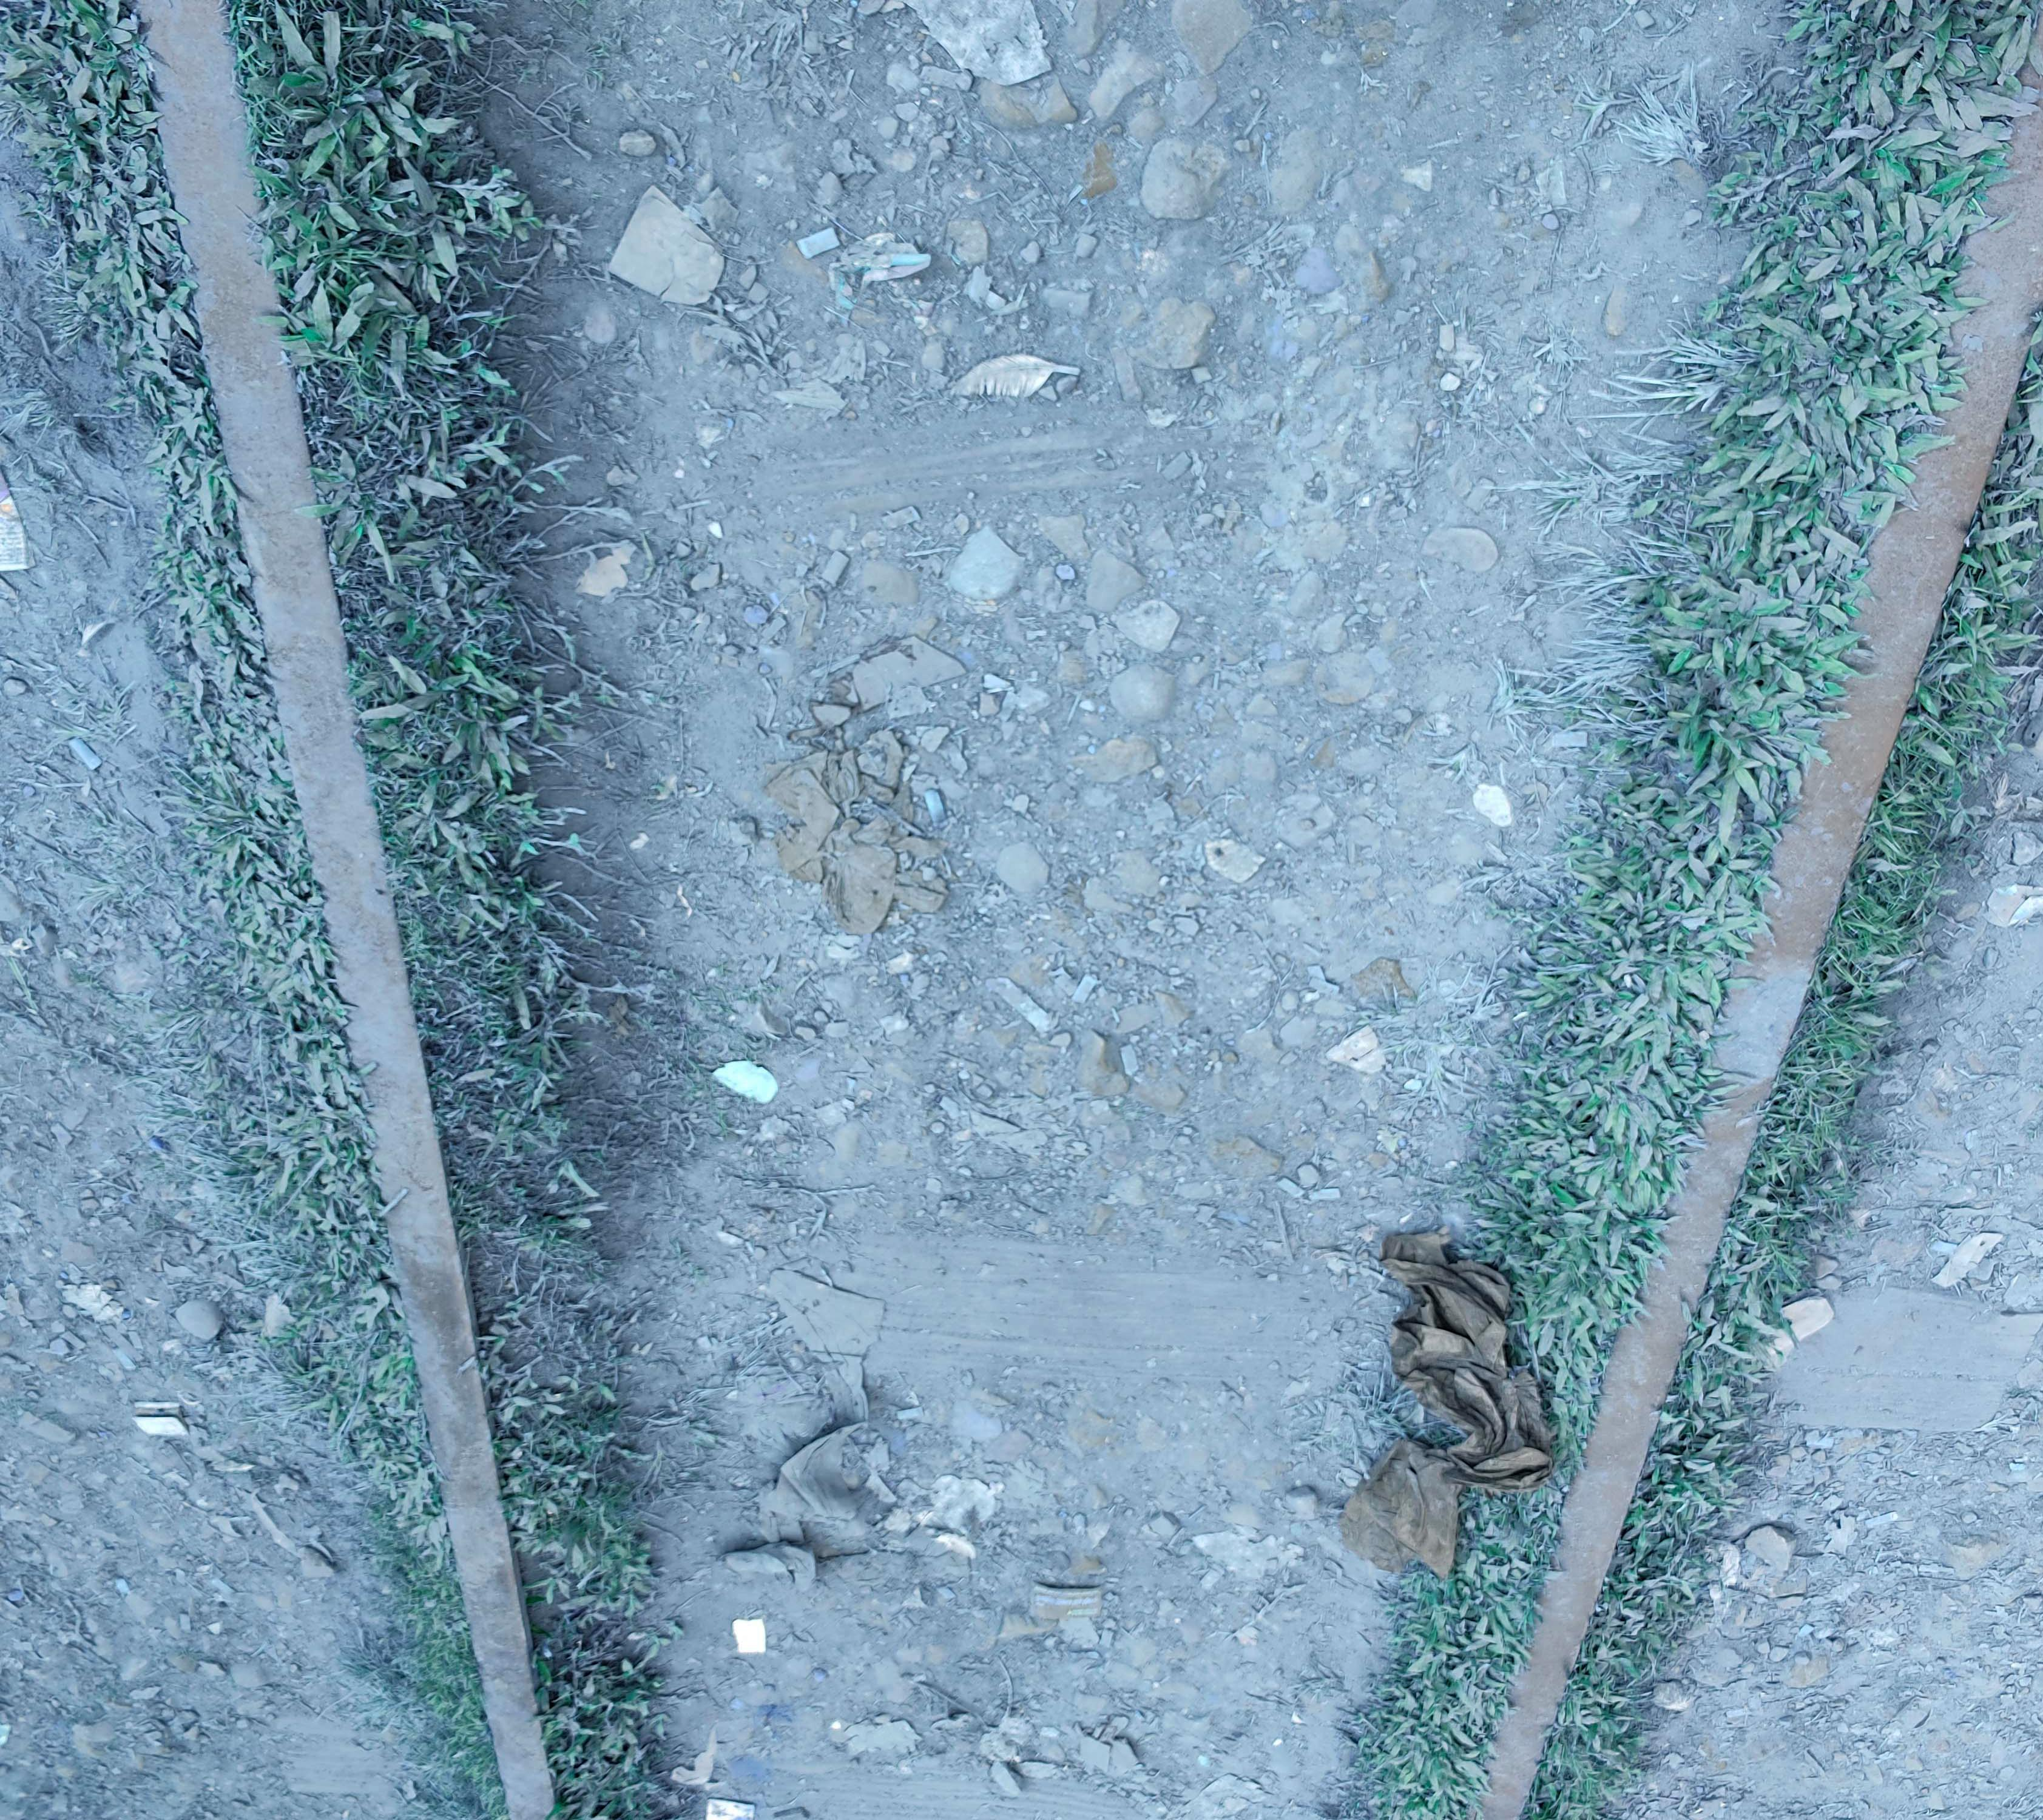error3: (1707, 841, 1841, 1140)
